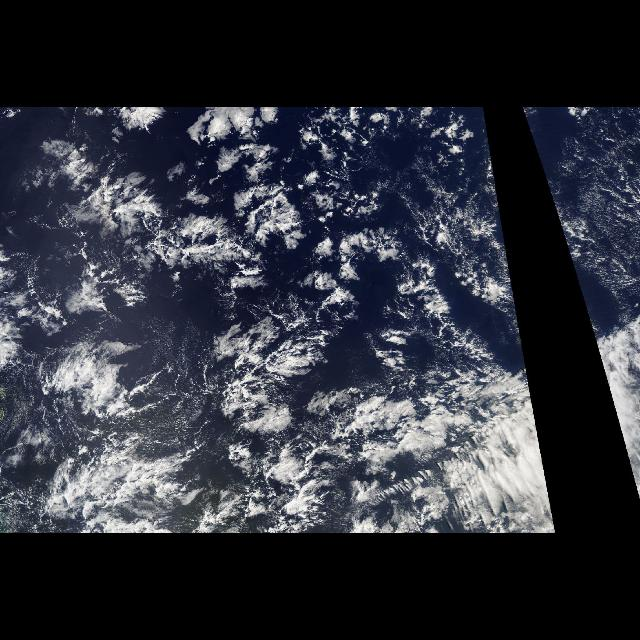Flower: (25, 138, 313, 294), (196, 320, 344, 486)
Gravel: (354, 172, 500, 356), (34, 343, 180, 521), (361, 378, 502, 528)
Sugar: (550, 122, 640, 310)
